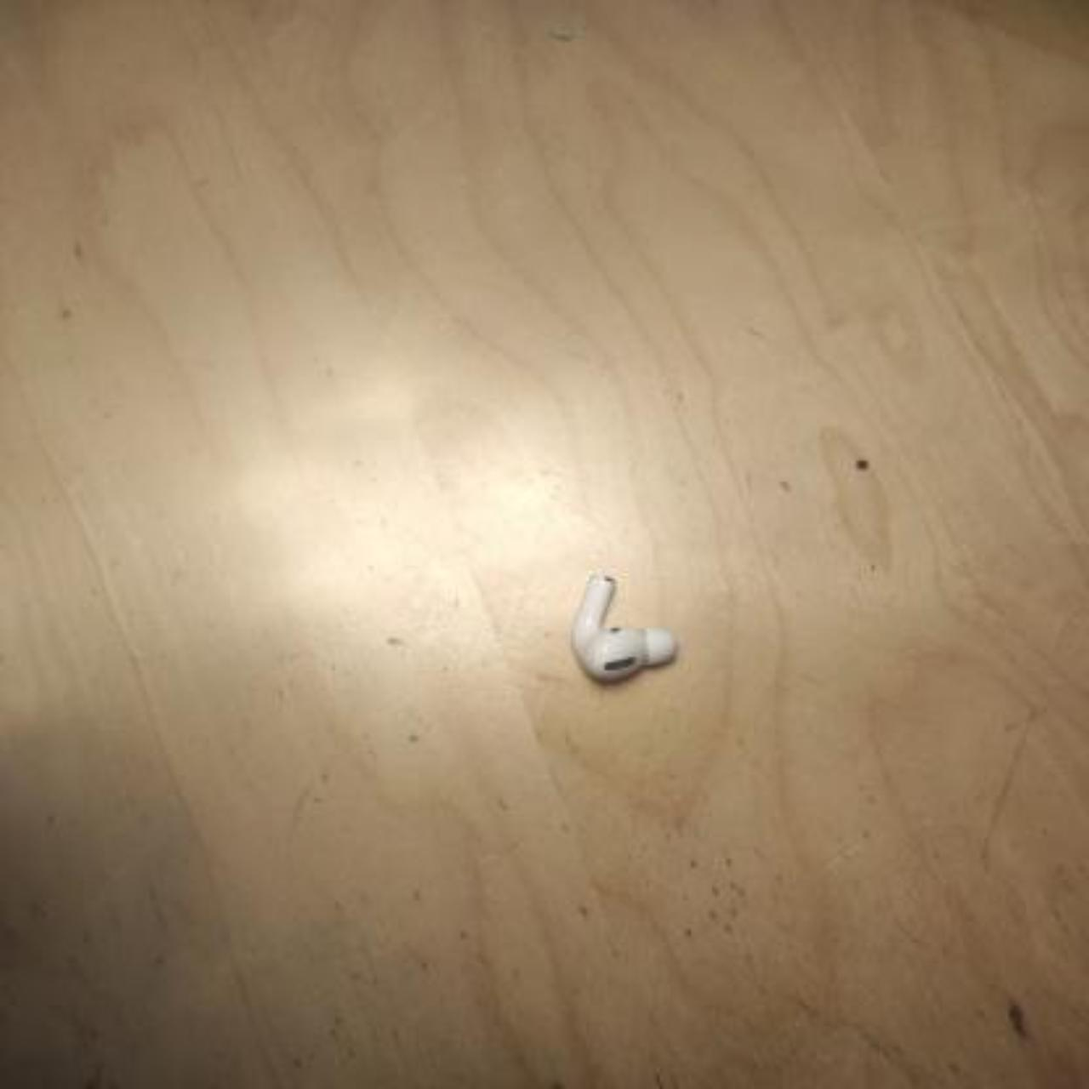Airpods_Units: (575, 574, 679, 676)
